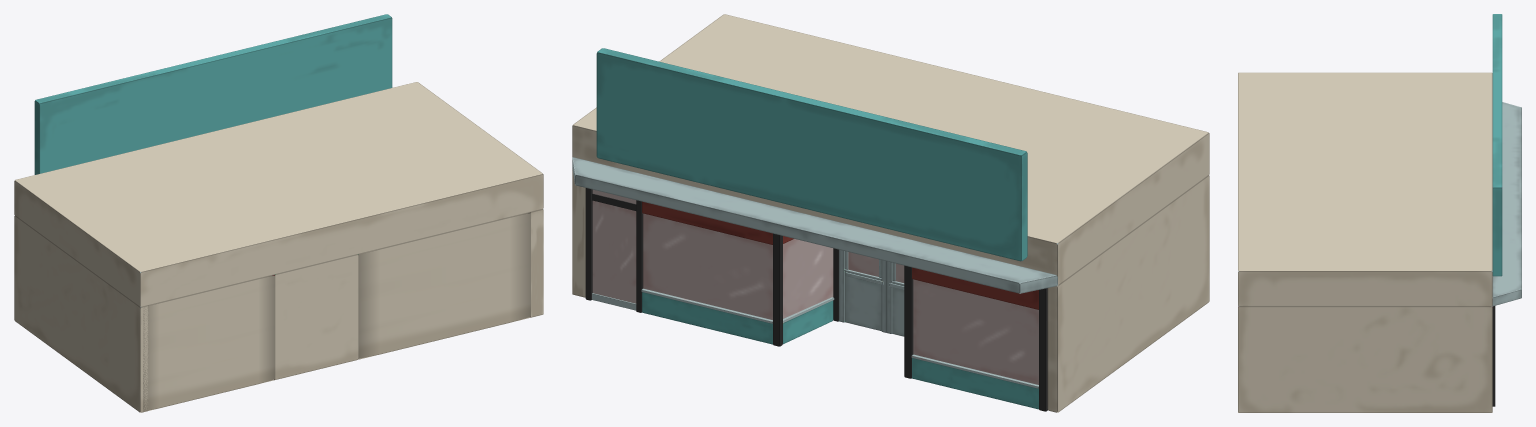
The model's file is Storefront01.fbx.
3 views of the same model, side by side, from view 1: azimuth 30°, elevation 25°; view 2: azimuth 150°, elevation 25°; view 3: azimuth 270°, elevation 25° (orthographic). The views are drawn at different scales.
Visible parts, largest first — view 1: cuboid, cuboid_6, cuboid_48, cuboid_2, cuboid_47, cuboid_3, cuboid_1; view 2: cuboid_6, cuboid, cuboid_2, cuboid_7, cuboid_4, cuboid_5, cuboid_49, cuboid_18, cuboid_23, cuboid_29, cuboid_21, cuboid_20 (+11 smaller); view 3: cuboid, cuboid_1, cuboid_7, cuboid_6, cuboid_8.
Boxes of the visible parts, bbox=[...] form: cuboid: bbox=[14, 82, 543, 307]; cuboid_6: bbox=[34, 14, 392, 174]; cuboid_48: bbox=[358, 212, 530, 359]; cuboid_2: bbox=[14, 216, 148, 412]; cuboid_47: bbox=[140, 274, 274, 411]; cuboid_3: bbox=[272, 254, 358, 379]; cuboid_1: bbox=[531, 209, 543, 317]; cuboid_6: bbox=[596, 48, 1027, 261]; cuboid: bbox=[572, 14, 1209, 285]; cuboid_2: bbox=[1047, 175, 1209, 412]; cuboid_7: bbox=[572, 157, 1057, 293]; cuboid_4: bbox=[643, 213, 833, 321]; cuboid_5: bbox=[913, 279, 1038, 384]; cuboid_49: bbox=[592, 189, 636, 303]; cuboid_18: bbox=[642, 292, 772, 344]; cuboid_23: bbox=[912, 358, 1038, 409]; cuboid_29: bbox=[844, 271, 881, 330]; cuboid_21: bbox=[912, 267, 1038, 309]; cuboid_20: bbox=[642, 201, 772, 244]; cuboid: bbox=[1238, 72, 1492, 306]; cuboid_1: bbox=[1238, 306, 1492, 412]; cuboid_7: bbox=[1492, 102, 1521, 306]; cuboid_6: bbox=[1492, 14, 1502, 276]; cuboid_8: bbox=[1492, 306, 1495, 406].
Size of the model in its own units: 300 by 150 by 181.
1 material, 1 textured.
